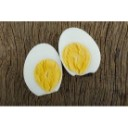begg: (23, 43, 58, 98), (61, 28, 100, 75)
